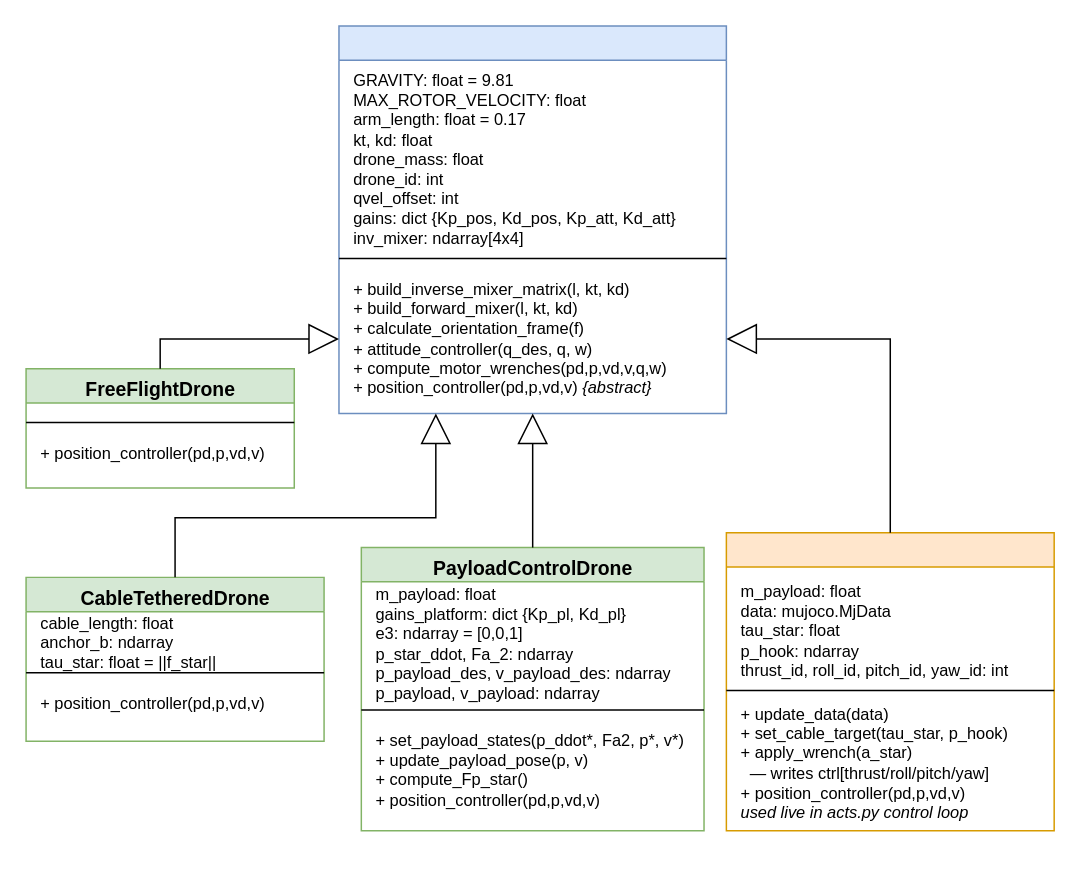
Some shapes in this 1080 by 869 pixel diagram are drawn without their labels. The box of each missing label's shape, as (x1, y1, x2, y2) in pixels:
ACTScontrolDrone: (725, 531, 1054, 831)
BaseDrone: (337, 25, 726, 413)
